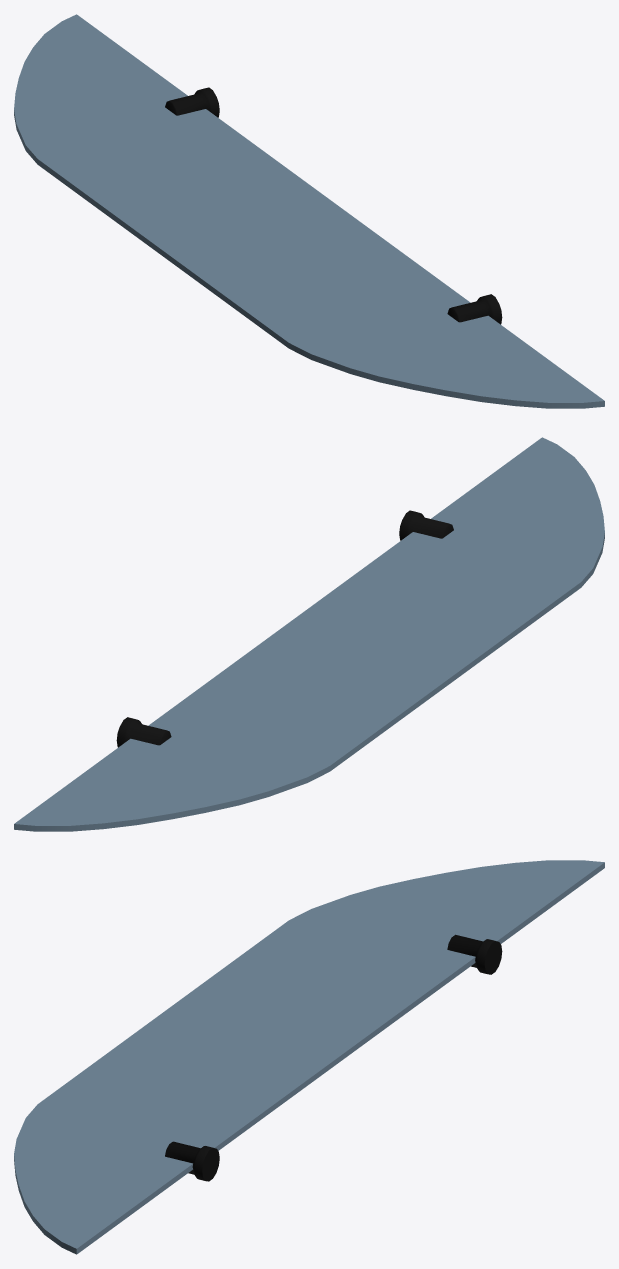
Rendered from BarenGlassShelf.FBX.
3 views of the same model, one above another, from view 1: azimuth 30°, elevation 25°; view 2: azimuth 150°, elevation 25°; view 3: azimuth 330°, elevation 25° (orthographic).
Visible parts, largest first — view 1: BarenGlassShelf; view 2: BarenGlassShelf; view 3: BarenGlassShelf.
Boxes of the visible parts, bbox=[...] form: BarenGlassShelf: bbox=[14, 14, 604, 408]; BarenGlassShelf: bbox=[14, 437, 604, 831]; BarenGlassShelf: bbox=[14, 860, 604, 1254].
Bounding box in the file's own units: 315 × 49.53 × 1524.
